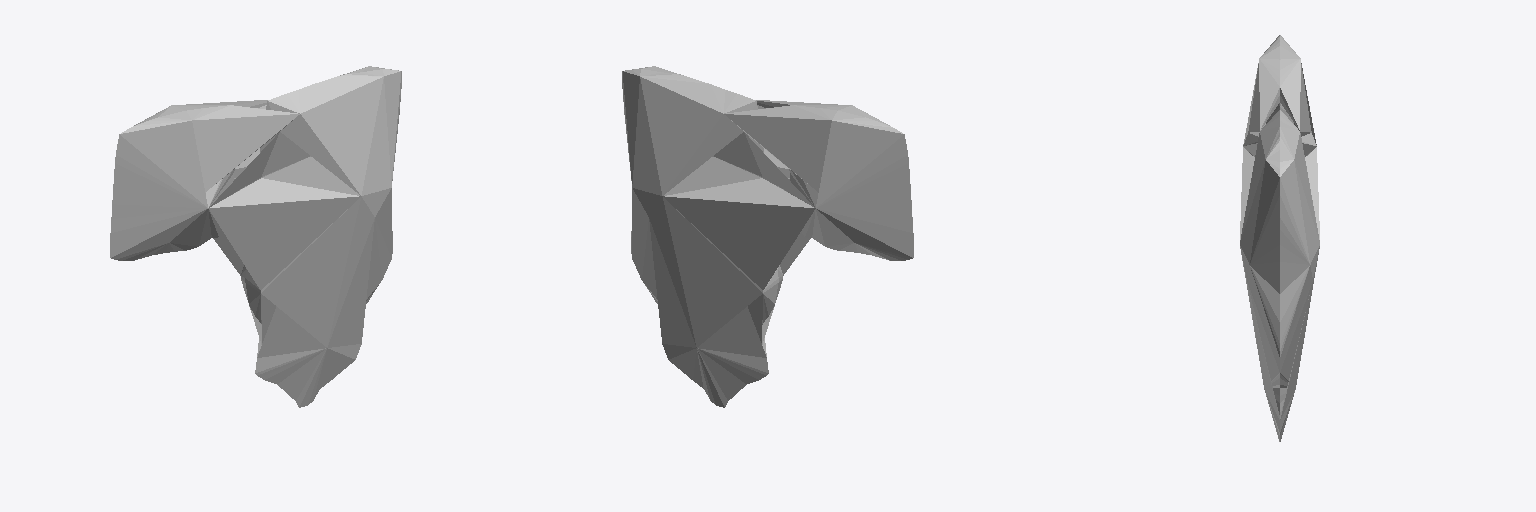
Rendered from coca.obj.
3 views of the same model, side by side, from view 1: azimuth 30°, elevation 25°; view 2: azimuth 150°, elevation 25°; view 3: azimuth 270°, elevation 25° (orthographic).
Visible parts, largest first — view 1: grp1; view 2: grp1; view 3: grp1.
Part boxes in pixels (bbox=[...]): grp1: bbox=[110, 66, 401, 407]; grp1: bbox=[622, 66, 913, 407]; grp1: bbox=[1240, 35, 1319, 441].
Bounding box in the file's own units: 330 × 352 × 79.12.